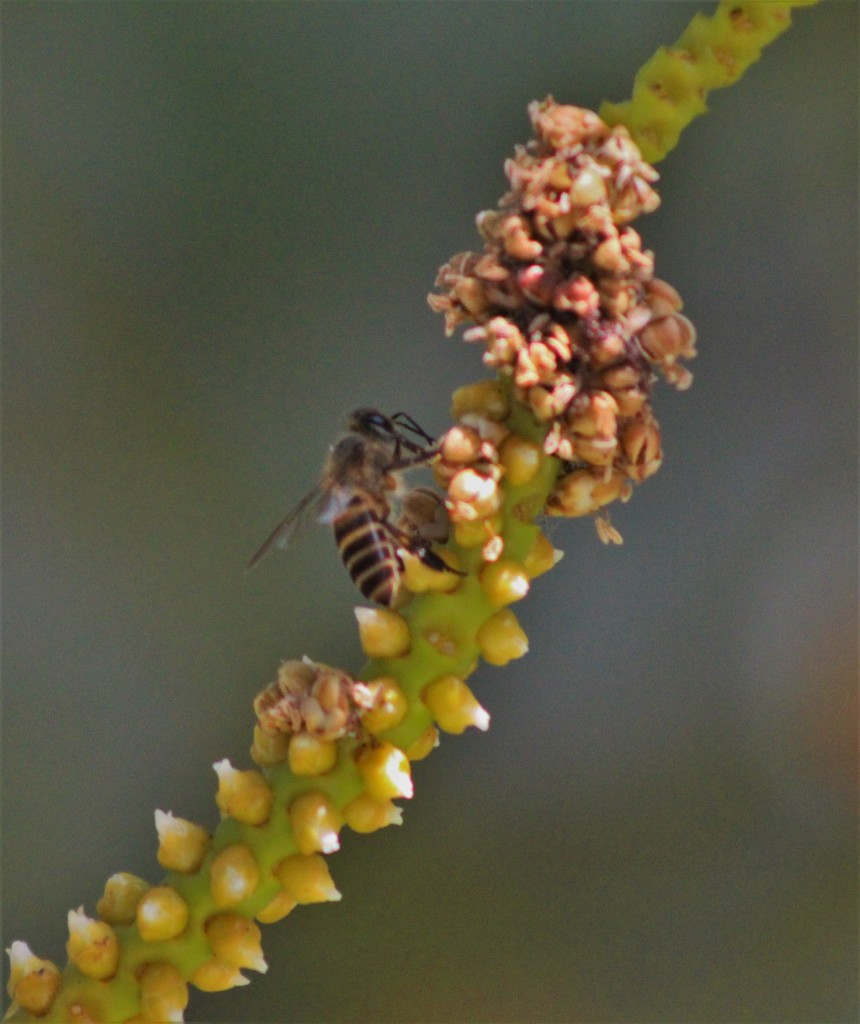not_bumblebee: (247, 405, 473, 609)
